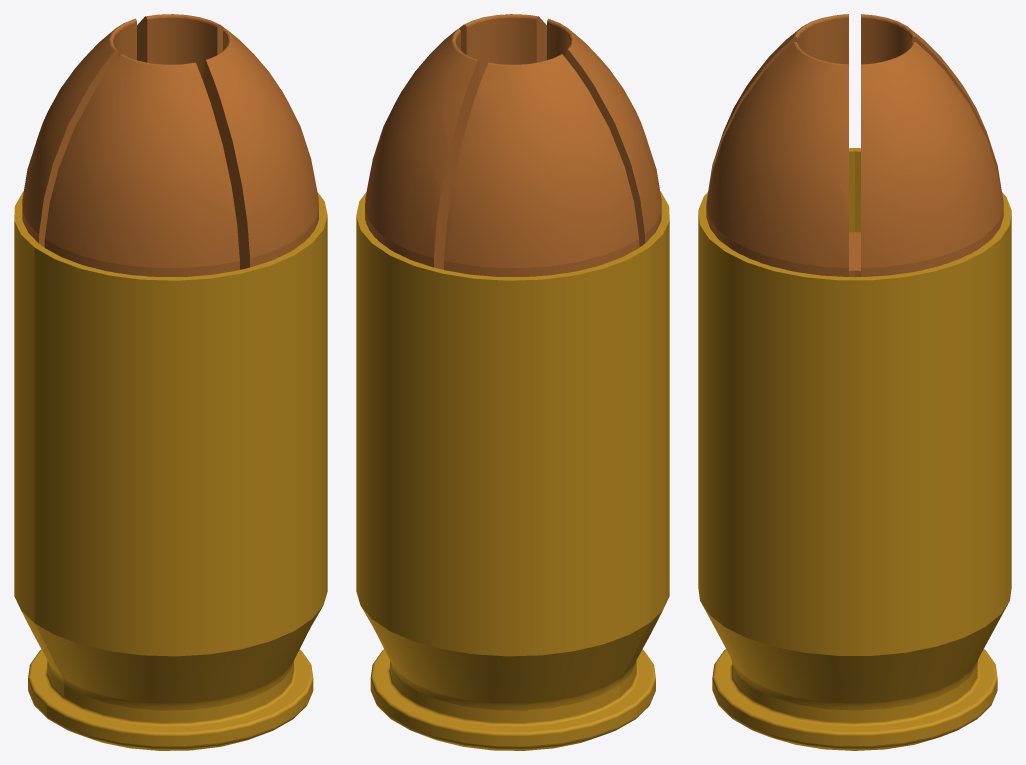
3 renders of one model, left to right at view 1: azimuth 30°, elevation 25°; view 2: azimuth 150°, elevation 25°; view 3: azimuth 270°, elevation 25°, orthographic.
Parts seen in each view (by area): view 1: o4_IndexedFaceSet, o17_IndexedFaceSet; view 2: o4_IndexedFaceSet, o17_IndexedFaceSet; view 3: o4_IndexedFaceSet, o17_IndexedFaceSet.
Part boxes in pixels (bbox=[...]): o4_IndexedFaceSet: bbox=[14, 191, 327, 750]; o17_IndexedFaceSet: bbox=[22, 14, 318, 276]; o4_IndexedFaceSet: bbox=[356, 191, 669, 750]; o17_IndexedFaceSet: bbox=[365, 14, 661, 276]; o4_IndexedFaceSet: bbox=[698, 148, 1011, 750]; o17_IndexedFaceSet: bbox=[706, 14, 1003, 277].
Bounding box in the file's own units: 13.36 × 31.04 × 13.38.
